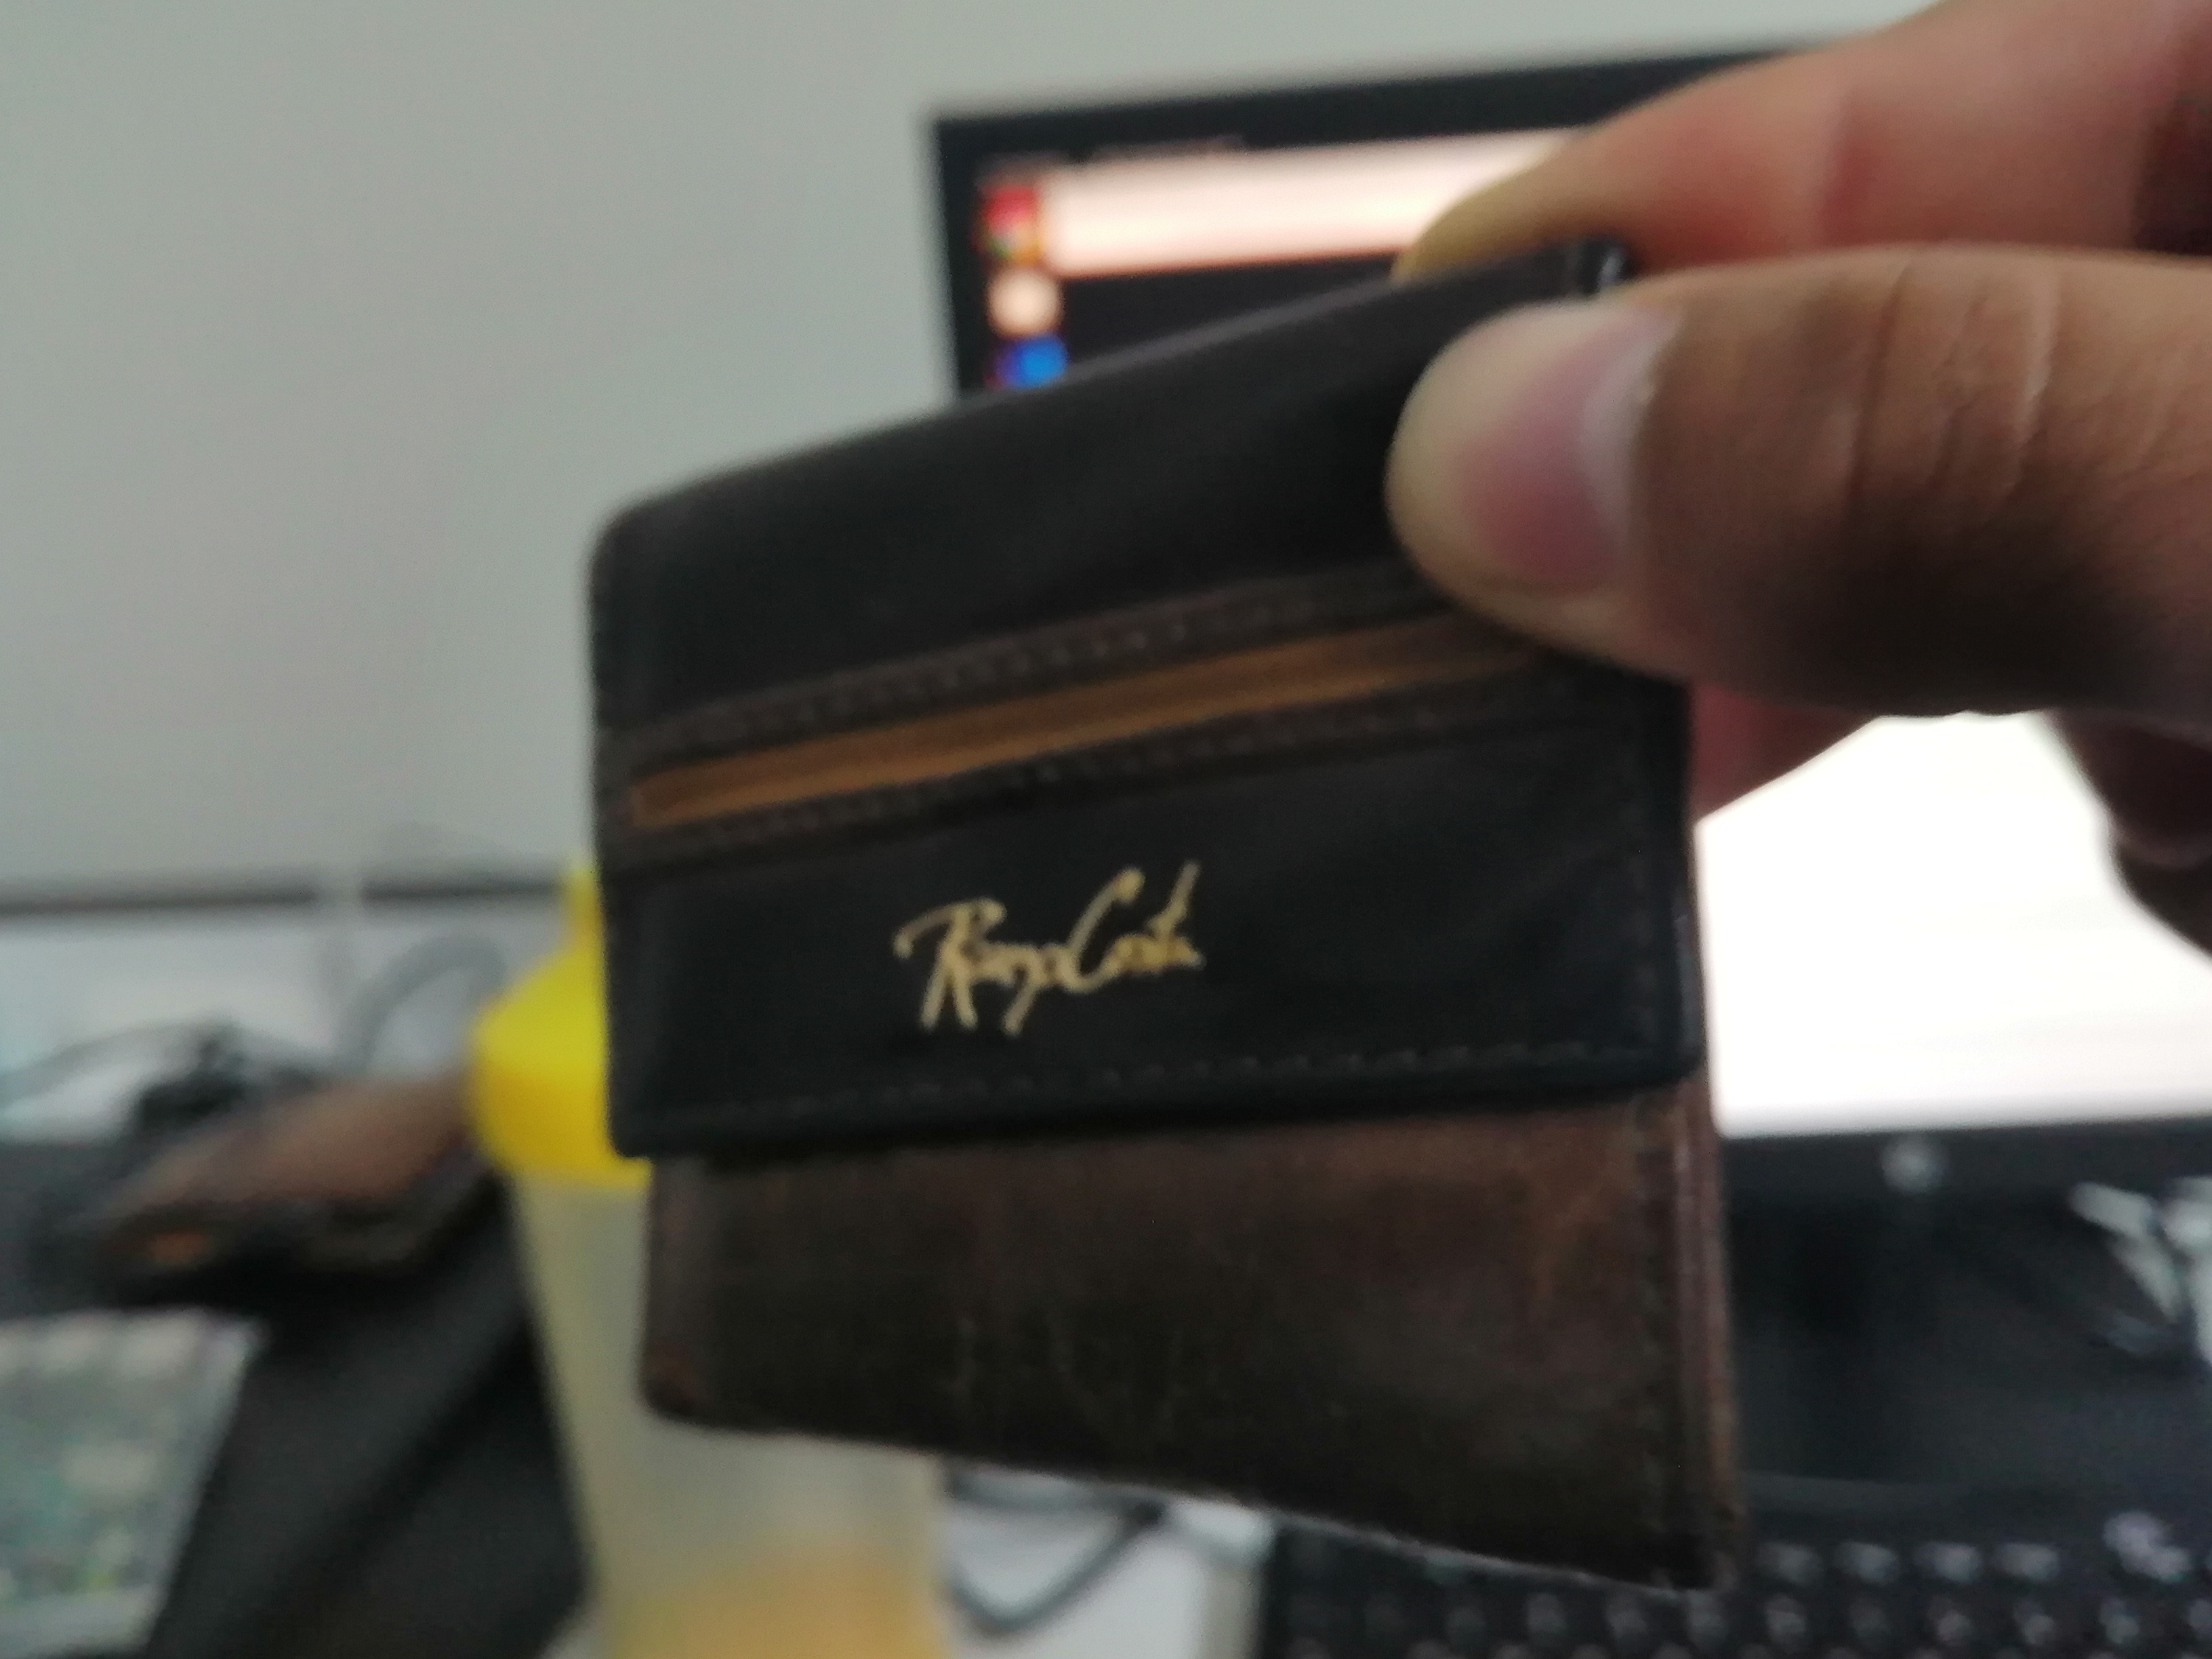monedero: (556, 228, 1766, 1603)
